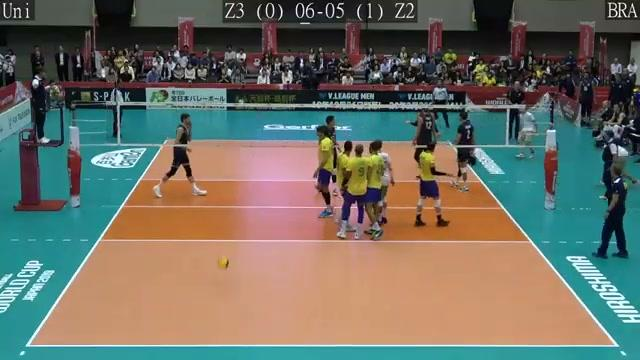ball: (211, 256, 231, 272)
